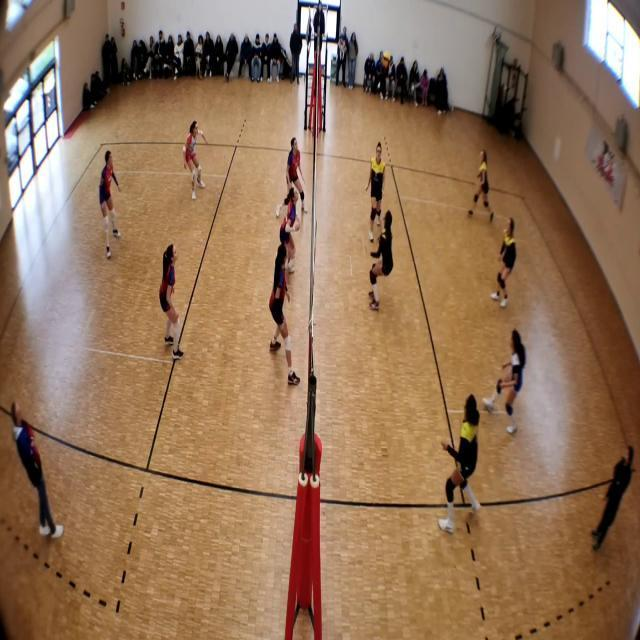volleyball: (381, 52, 394, 66)
